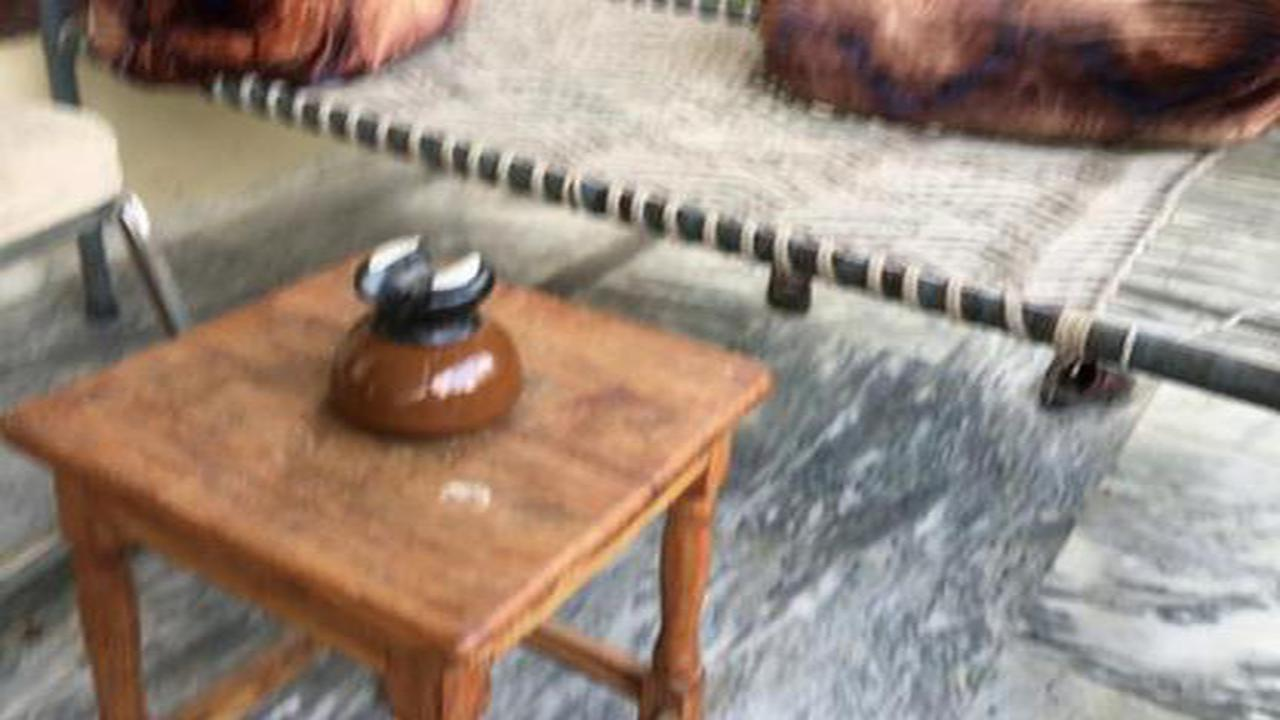insulator_pin: (305, 222, 542, 447)
